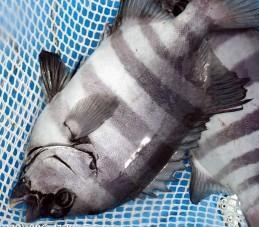fish: (5, 0, 258, 225)
